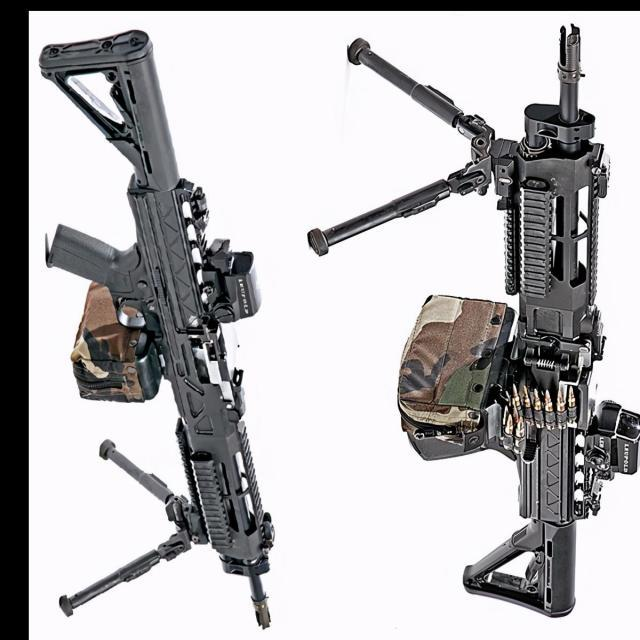weapon: (304, 24, 640, 622), (38, 26, 276, 634)
